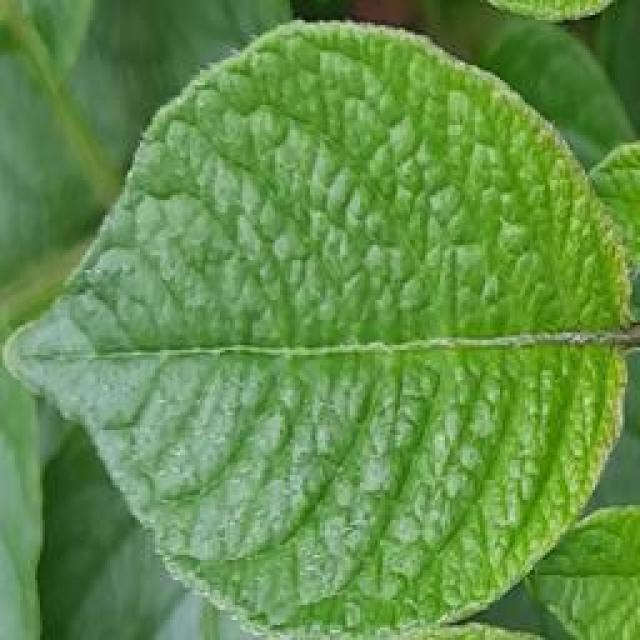healthy: (0, 15, 635, 637)
